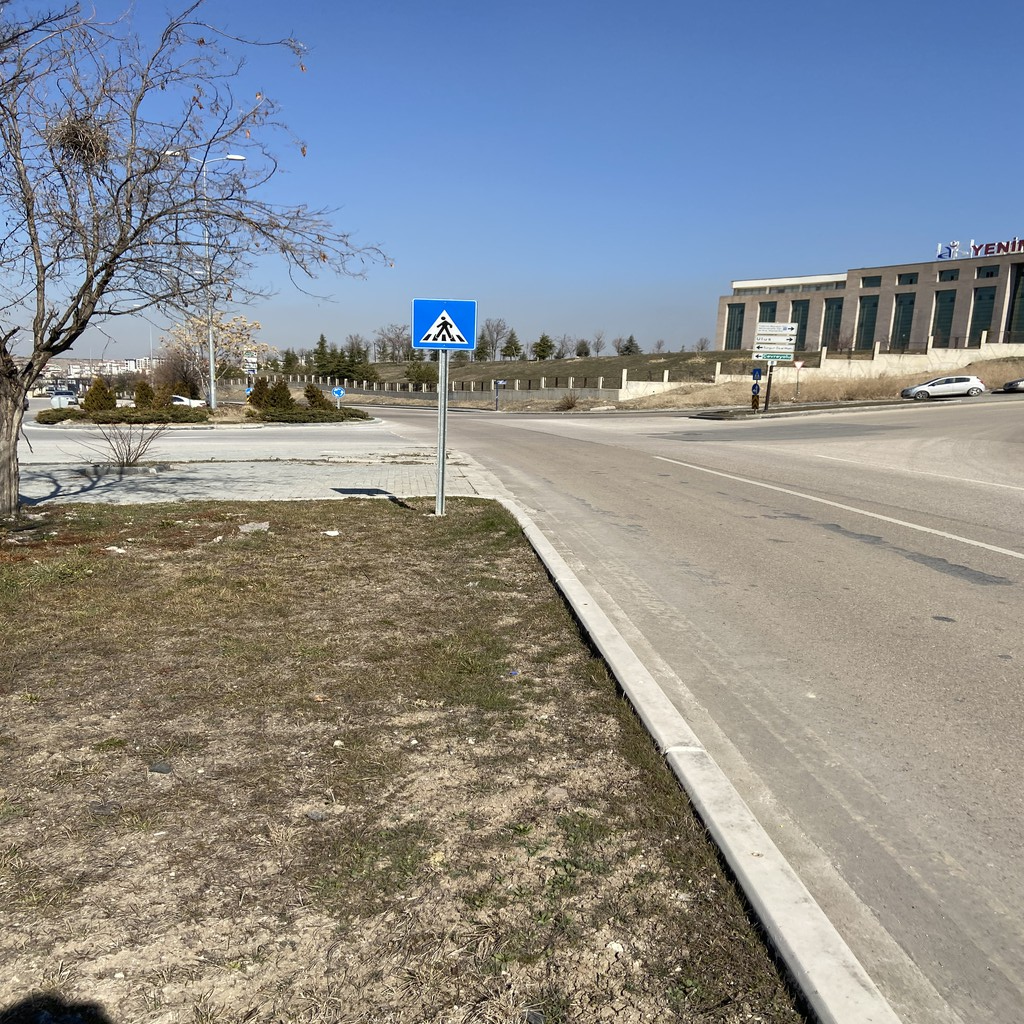Yaya Gecidi: (415, 300, 477, 348)
